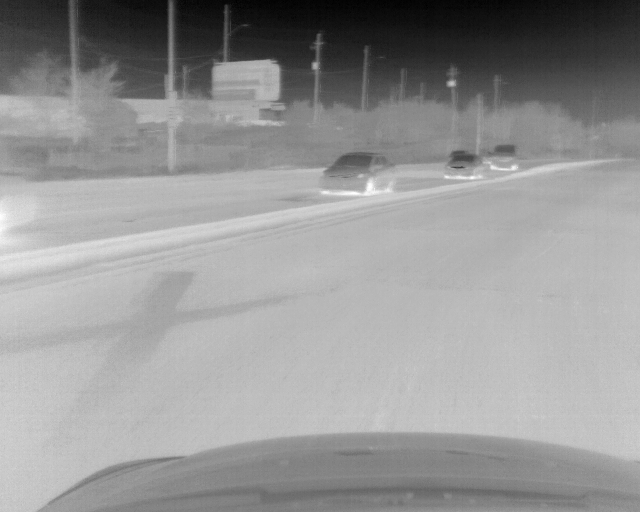car: (319, 151, 392, 194), (444, 153, 484, 179), (489, 143, 521, 170)
